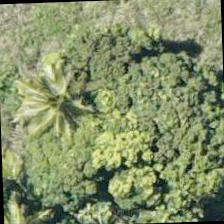Kelapa_Sawit: (13, 44, 106, 138), (2, 180, 54, 223)
